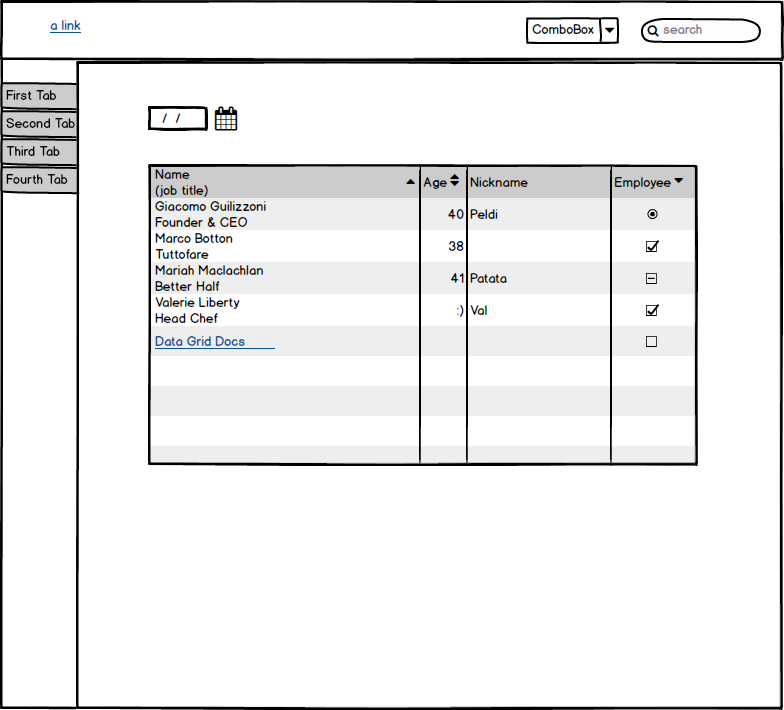date_picker: (142, 99, 244, 136)
navlink: (39, 12, 90, 39)
search: (635, 12, 770, 47)
select_box: (524, 14, 622, 47)
sidebar: (2, 75, 83, 199)
table: (140, 159, 707, 472)
